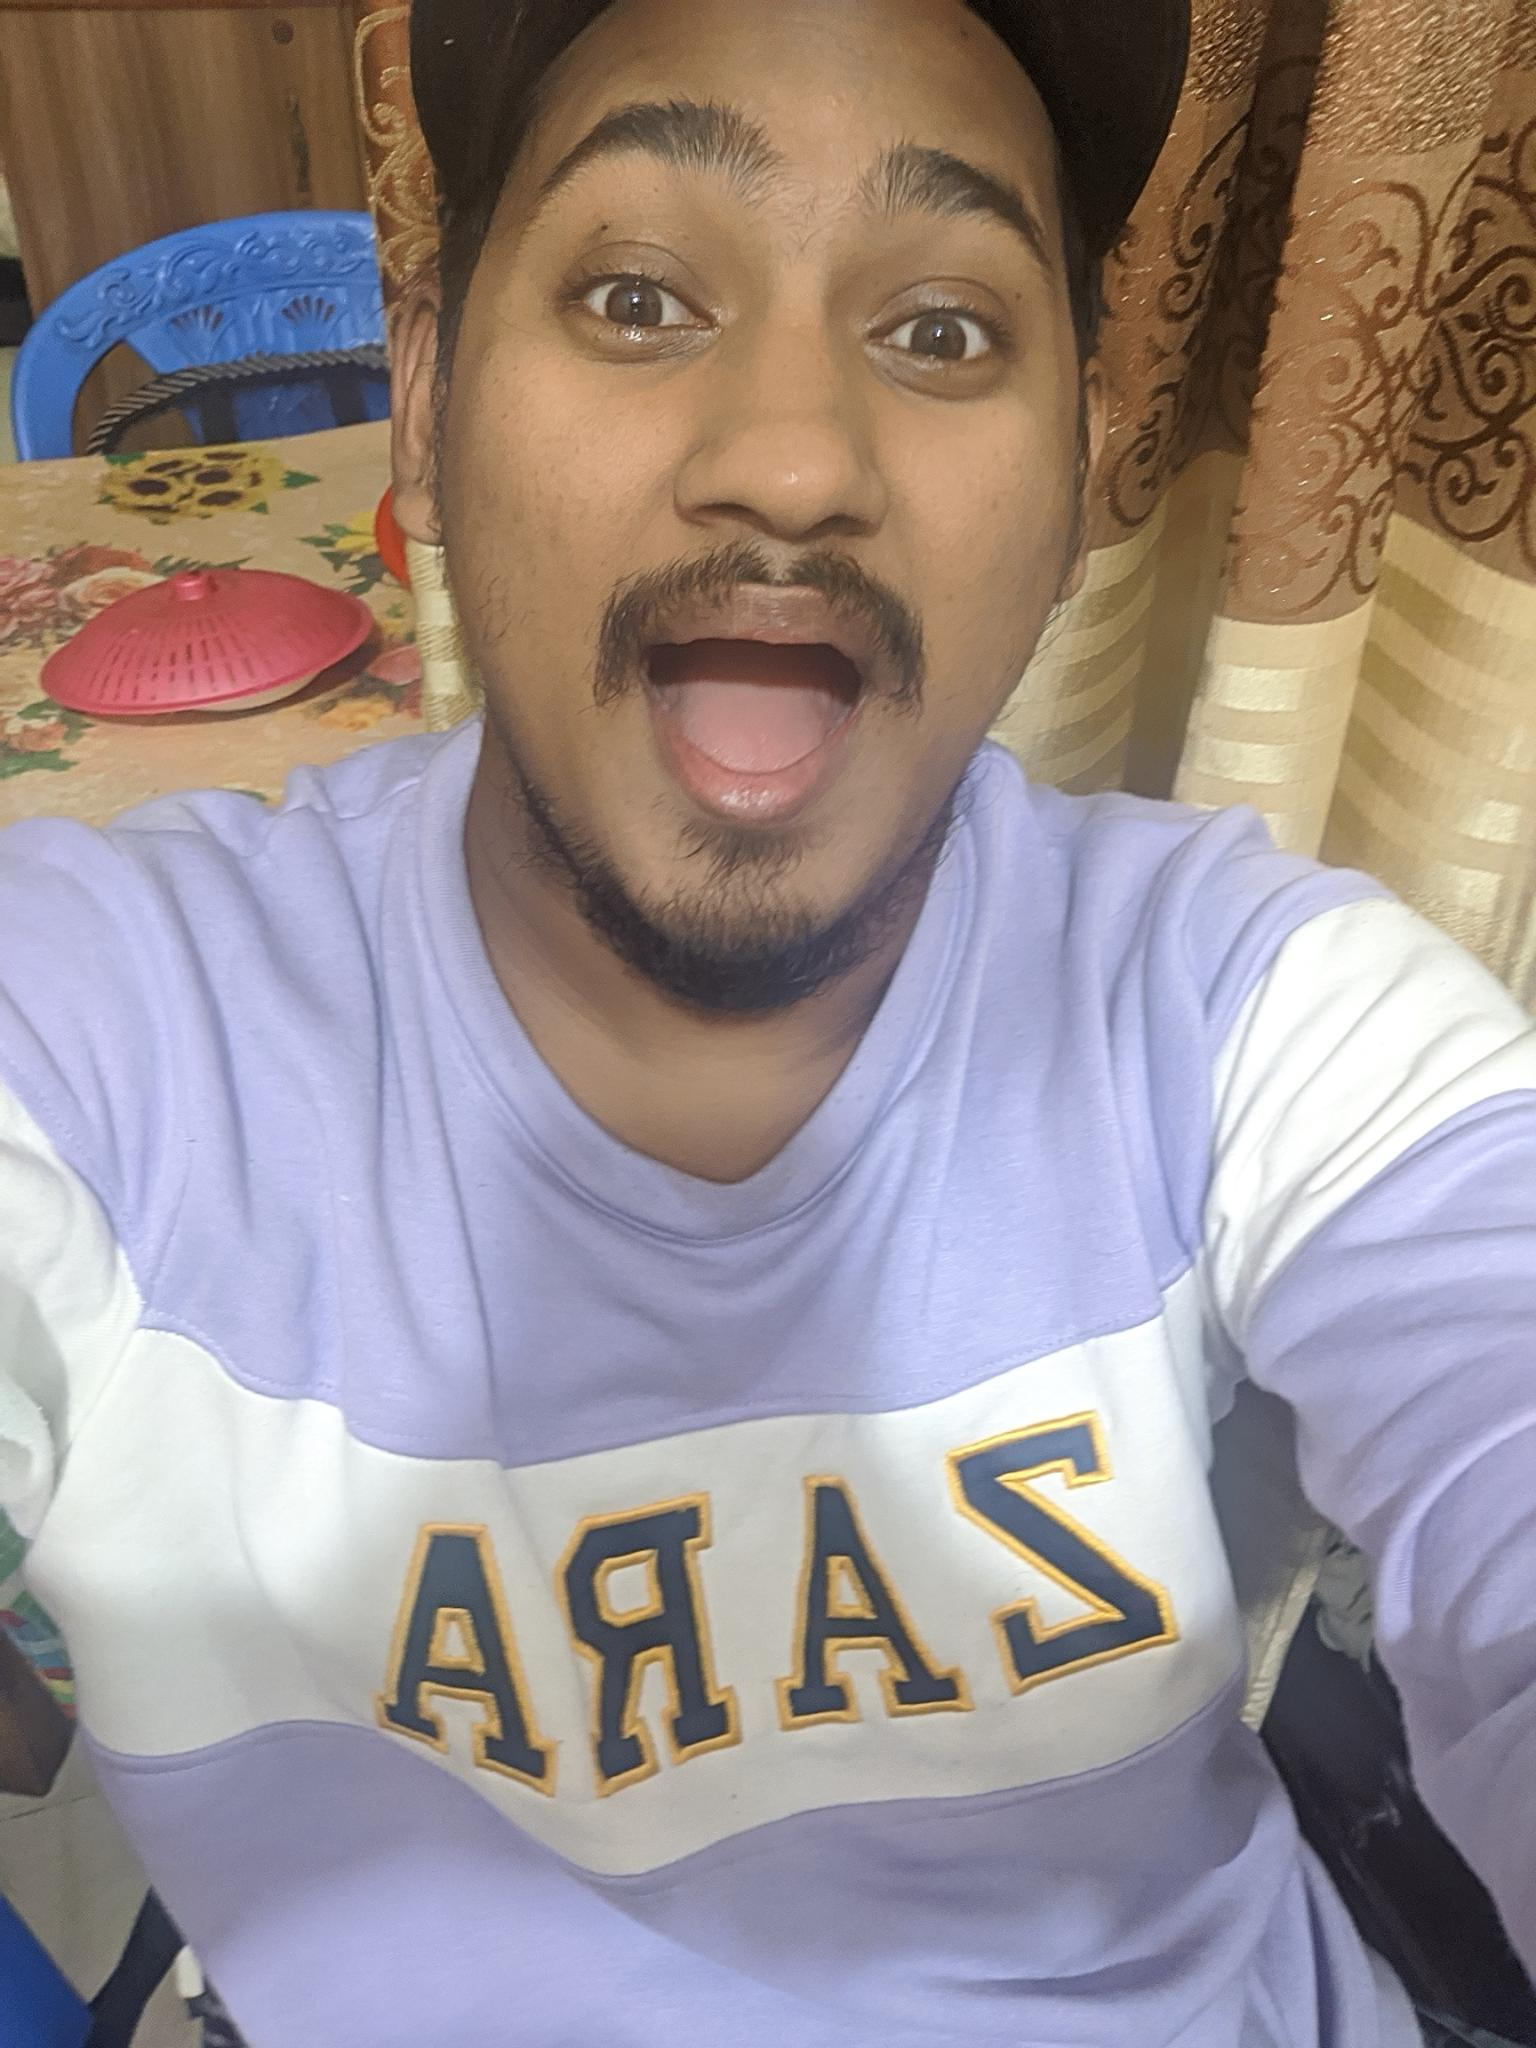Surprise: (405, 40, 1087, 977)
